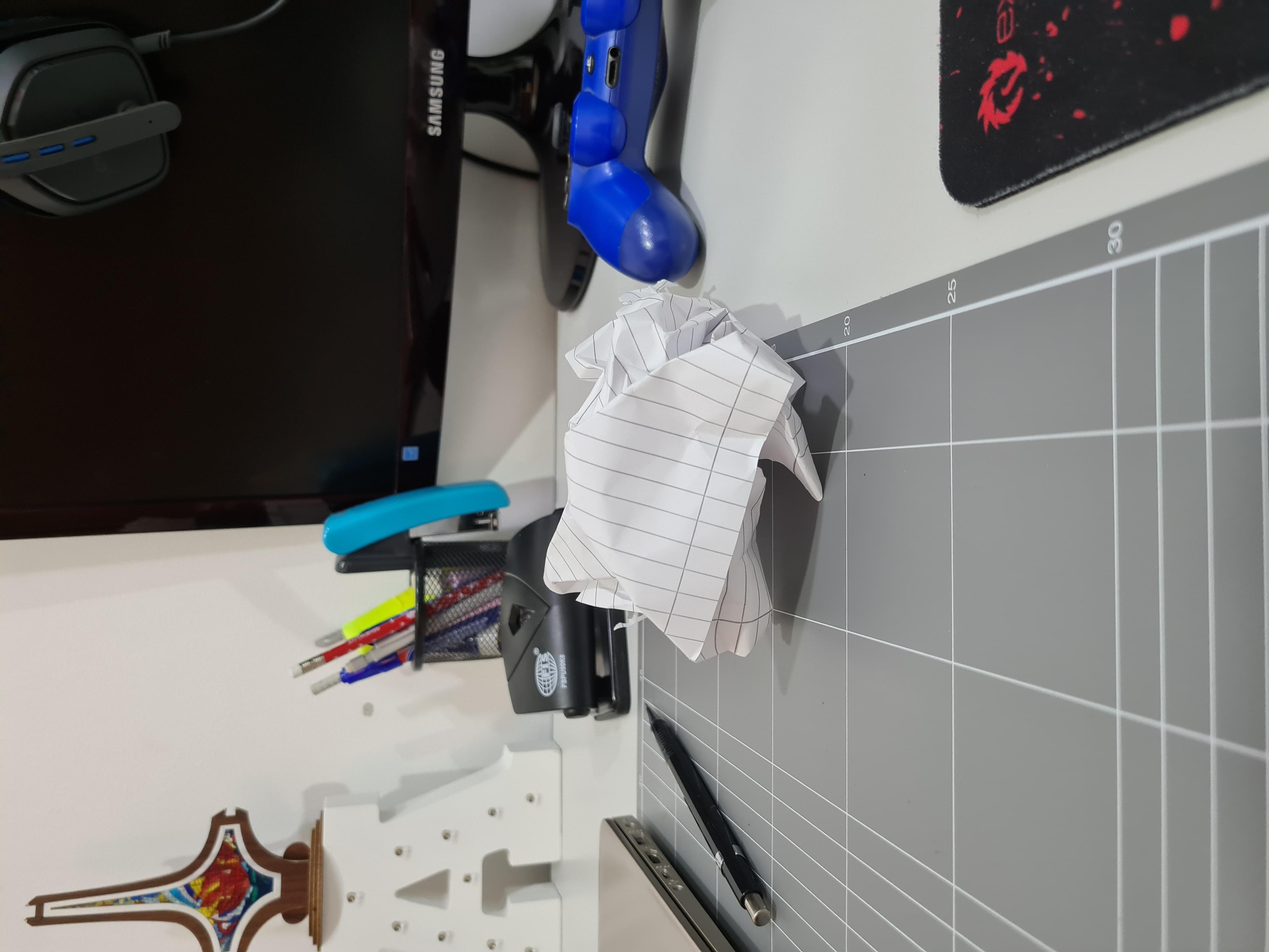paper: (413, 407, 898, 619)
